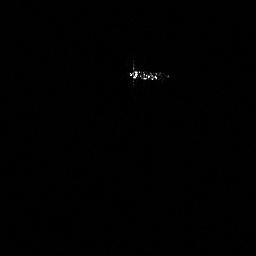ship: (127, 66, 173, 85)
